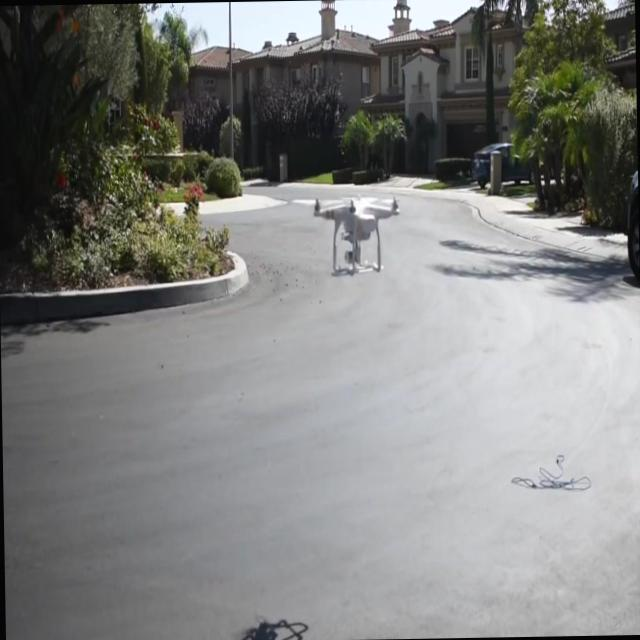drone: (292, 188, 409, 283)
